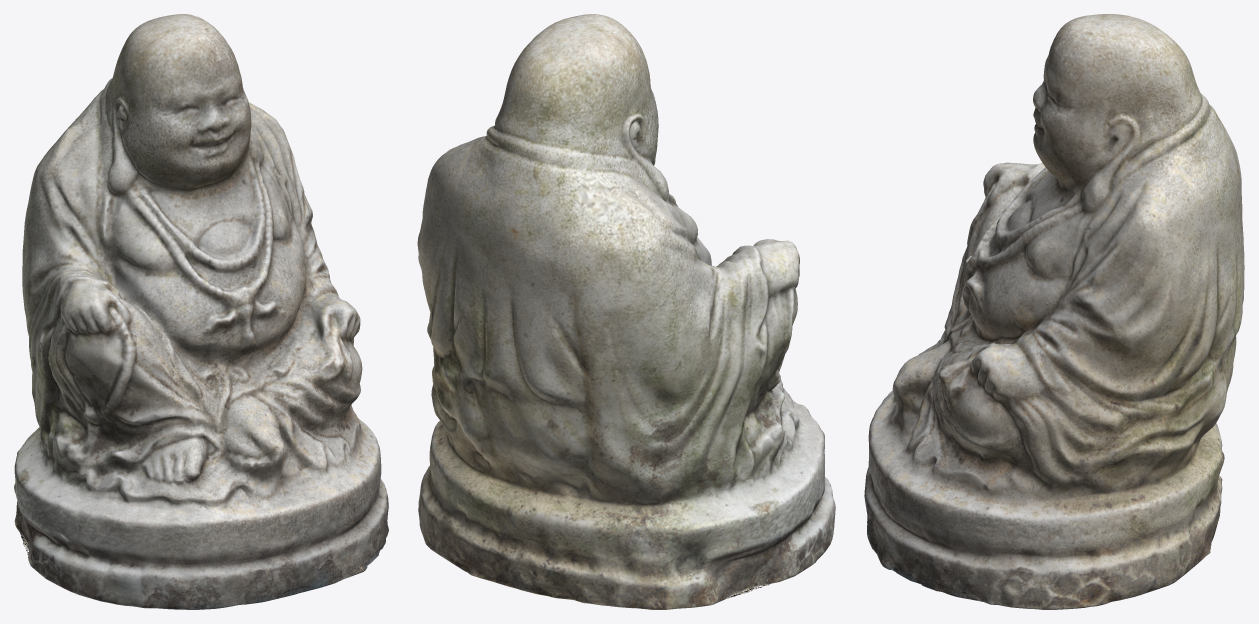
File: buddha1_40k (1).glb
3 views of the same model, side by side, from view 1: azimuth 30°, elevation 25°; view 2: azimuth 150°, elevation 25°; view 3: azimuth 270°, elevation 25° (orthographic). The views are drawn at different scales.
Parts seen in each view (by area): view 1: Buddha1_40k_defaultMat_0; view 2: Buddha1_40k_defaultMat_0; view 3: Buddha1_40k_defaultMat_0.
Boxes of the visible parts, x1,y1,x2,y2 form: Buddha1_40k_defaultMat_0: (14, 14, 388, 609); Buddha1_40k_defaultMat_0: (417, 14, 835, 609); Buddha1_40k_defaultMat_0: (864, 14, 1244, 609).
Size of the model in its own units: 1.69 by 2.34 by 1.59.
Materials: 1 (1 with a texture image).
